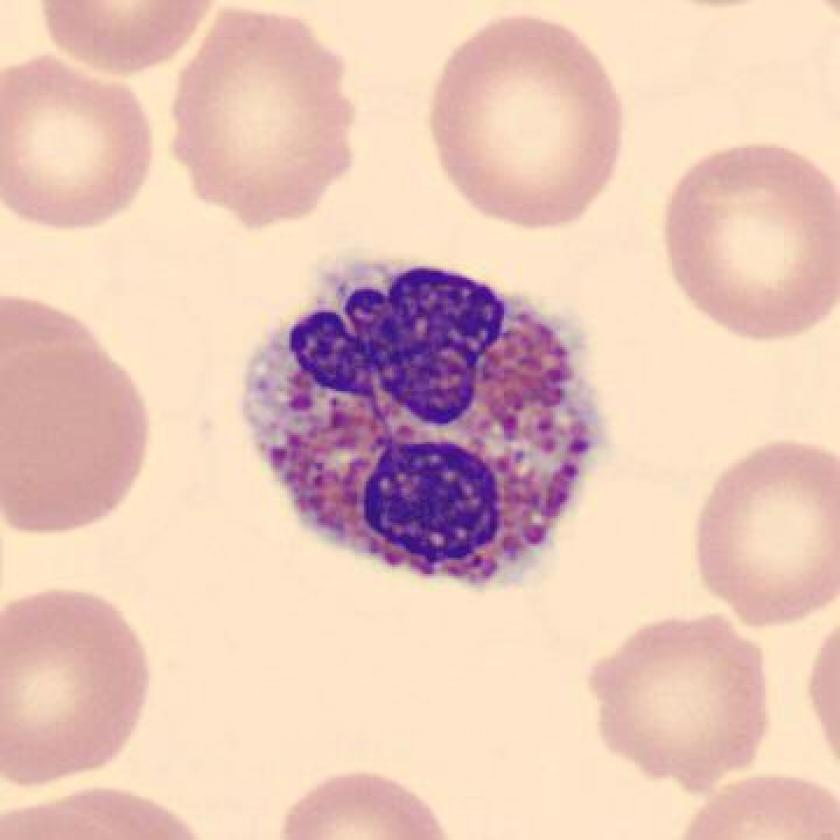eosinophil: (228, 246, 620, 605)
